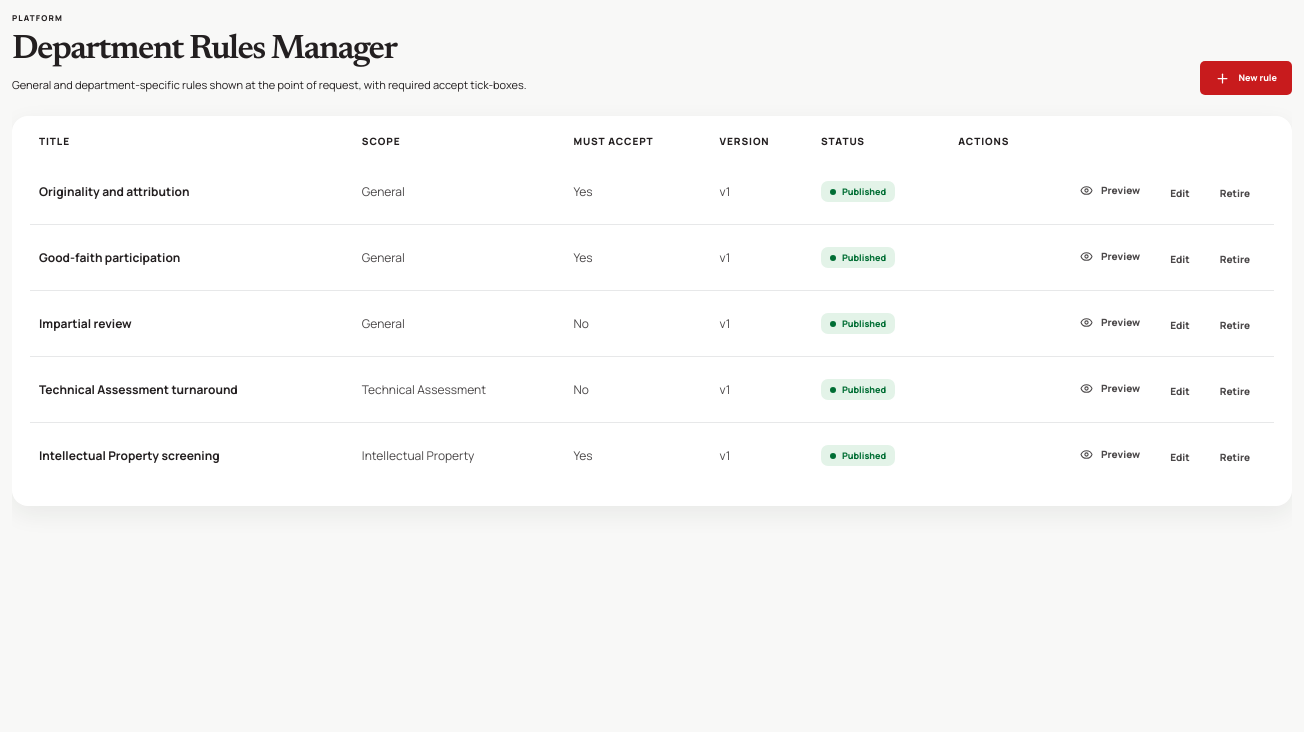
Test: RulesManagerPage › retires a published rule
The width and height of the screenshot is (1304, 732).
Step 1. Click the button "Retire" in the row of "Good-faith participation" → (1235, 259), box [1205,240,1265,278]
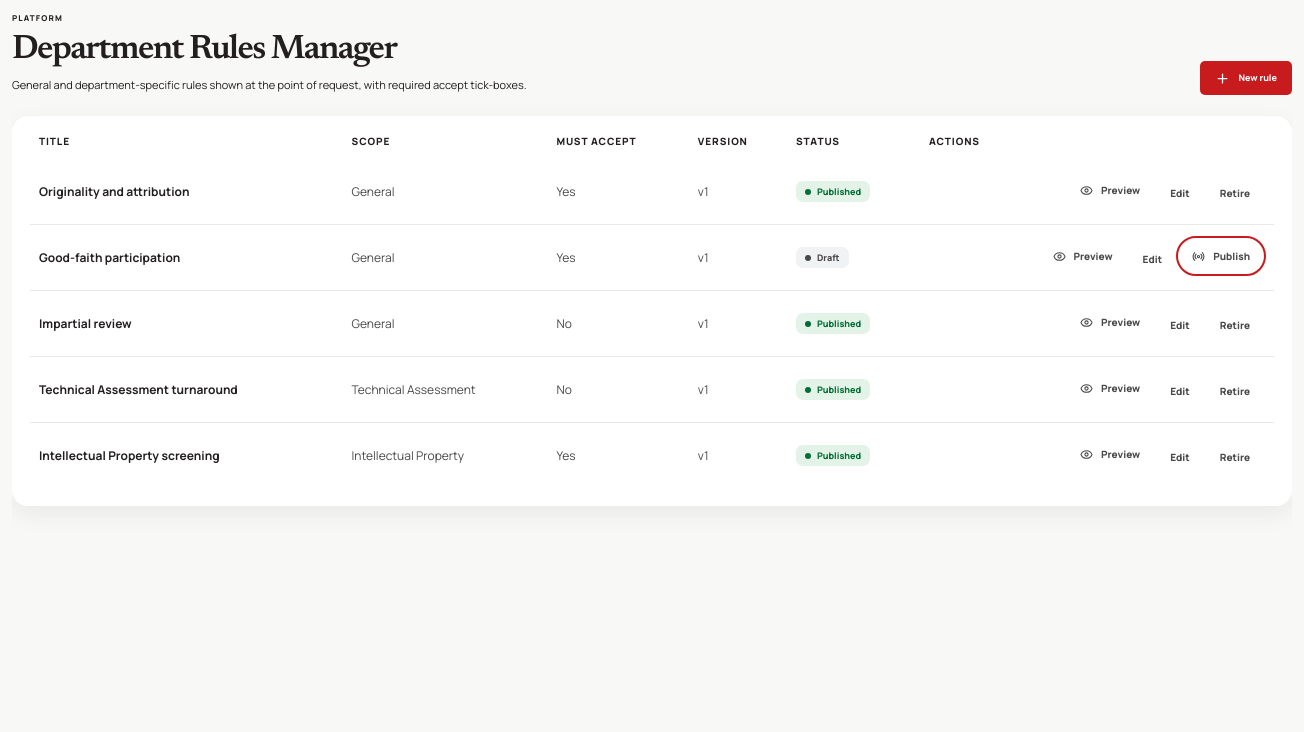
Result: the text "Draft" is shown at [796,247,849,268]
